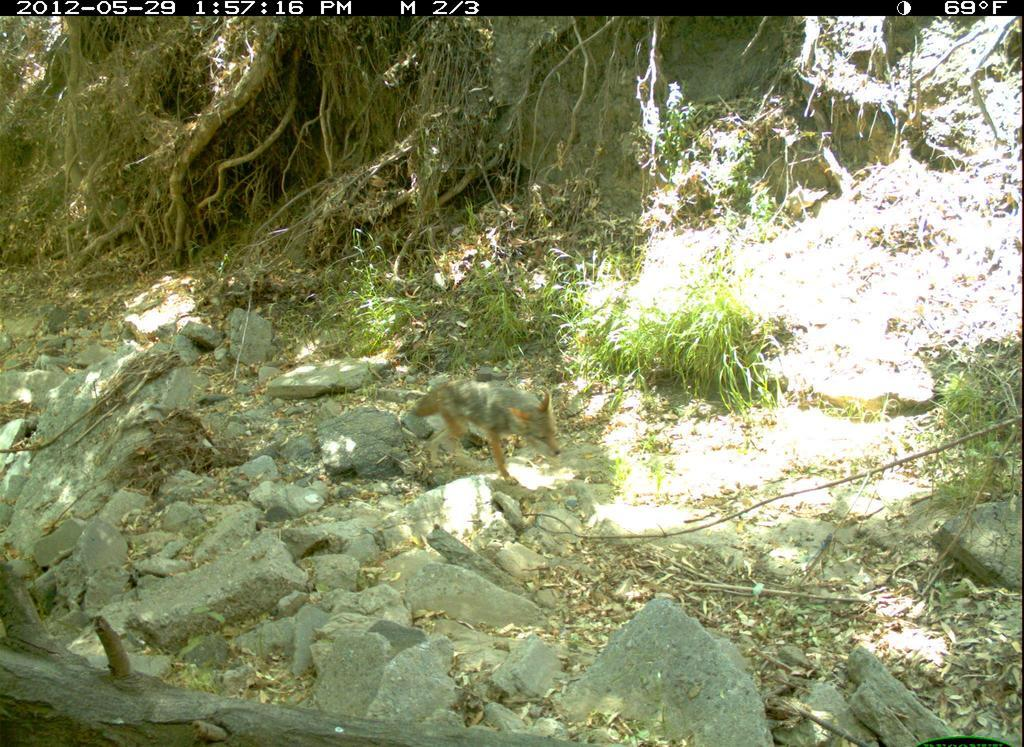coyote: (400, 360, 580, 492)
